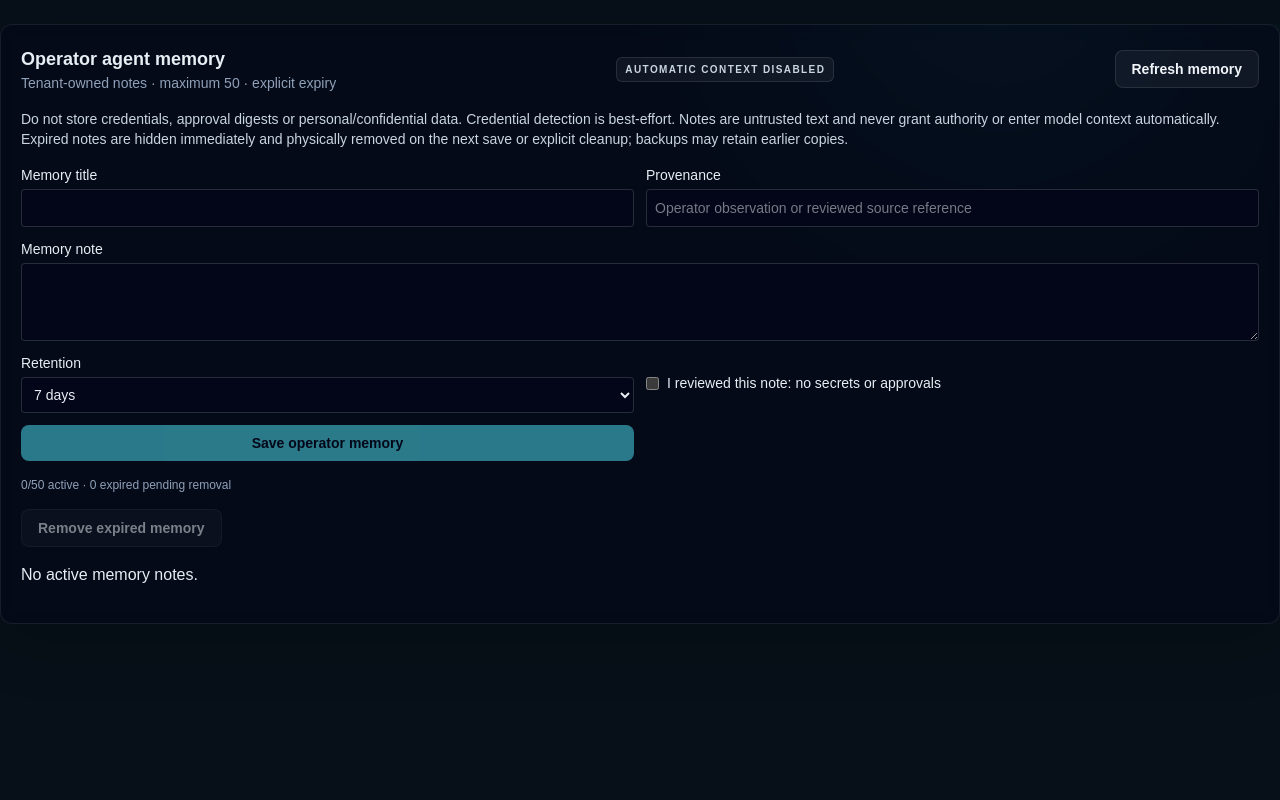
Scenario: AgentMemoryWorkspace › requires review before saving and never sends memory to inference
The image size is (1280, 800).
Expected: the text "No active memory notes." is shown, [21,566,198,583]
In the field labelled "Memory title": (328, 208) [21,189,634,227], type "Worker observation"
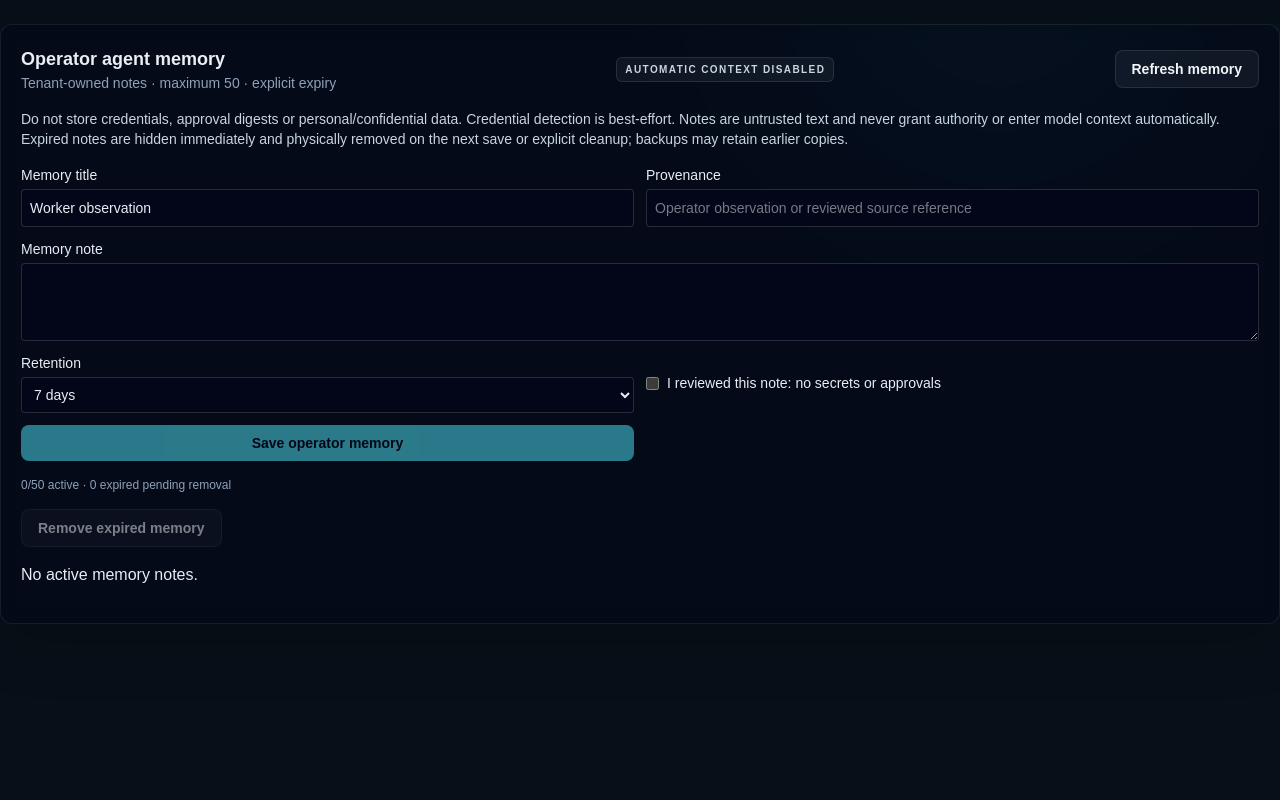
In the text box labelled "Memory note": (640, 302) [21,263,1259,341], type "The reviewed worker needs Docker to execute tests."
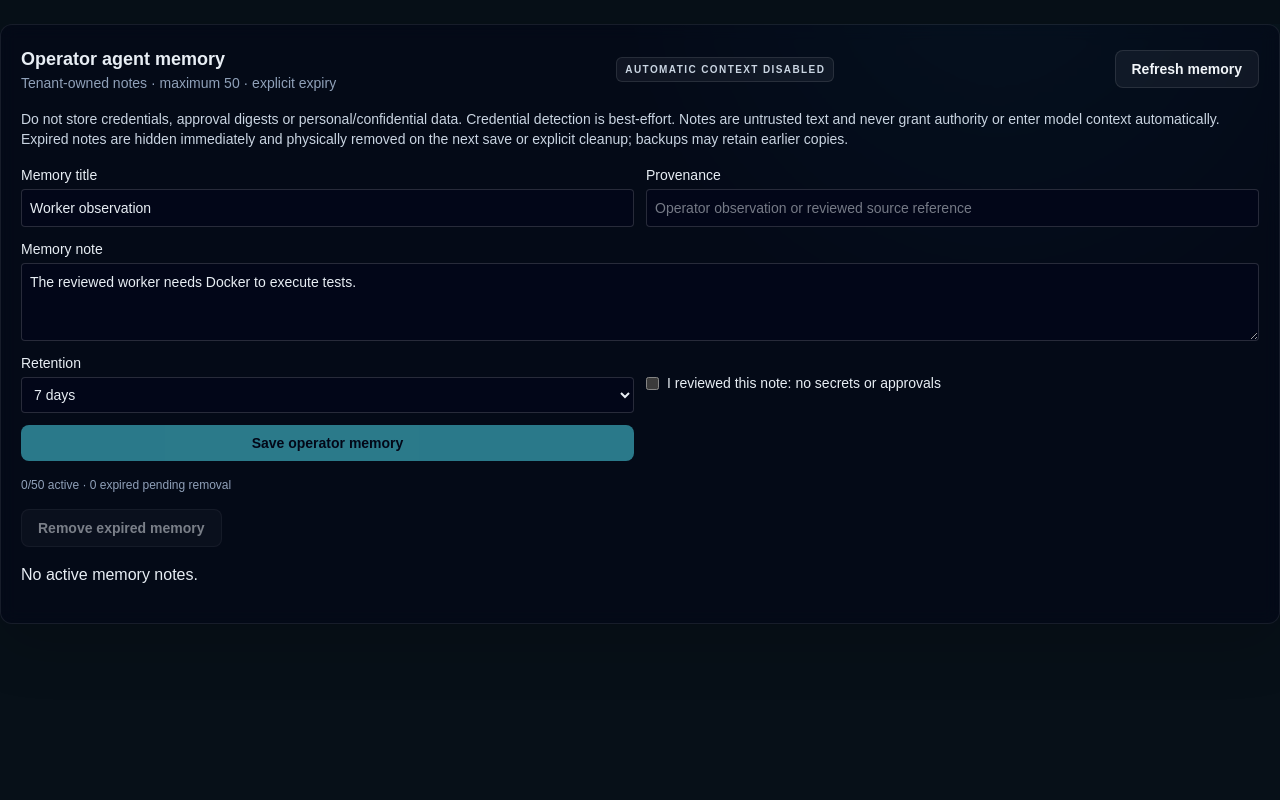
In the field labelled "Provenance": (952, 208) [646,189,1259,227], type "Local operator review"
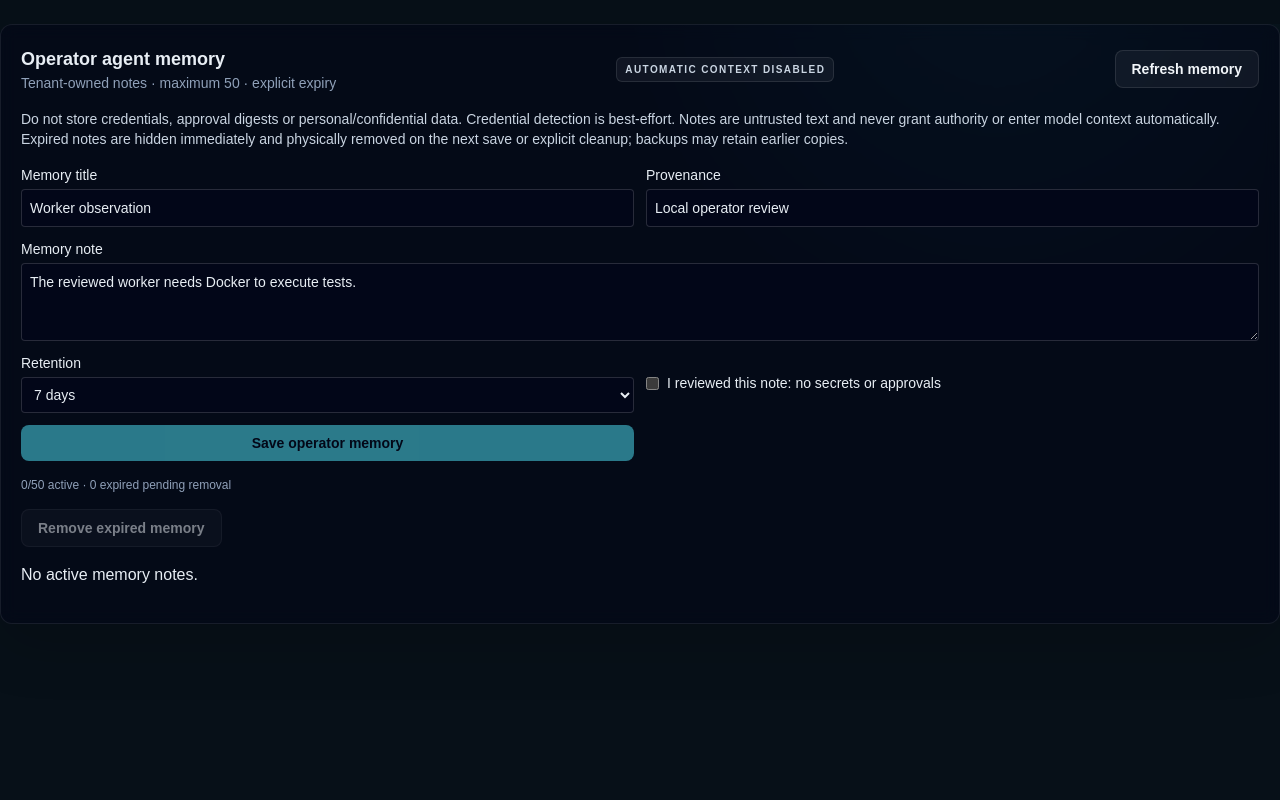
Expected: the button "Save operator memory" is disabled, [21,425,634,461]
Click the checkbox: (652, 383) [646,376,659,390]
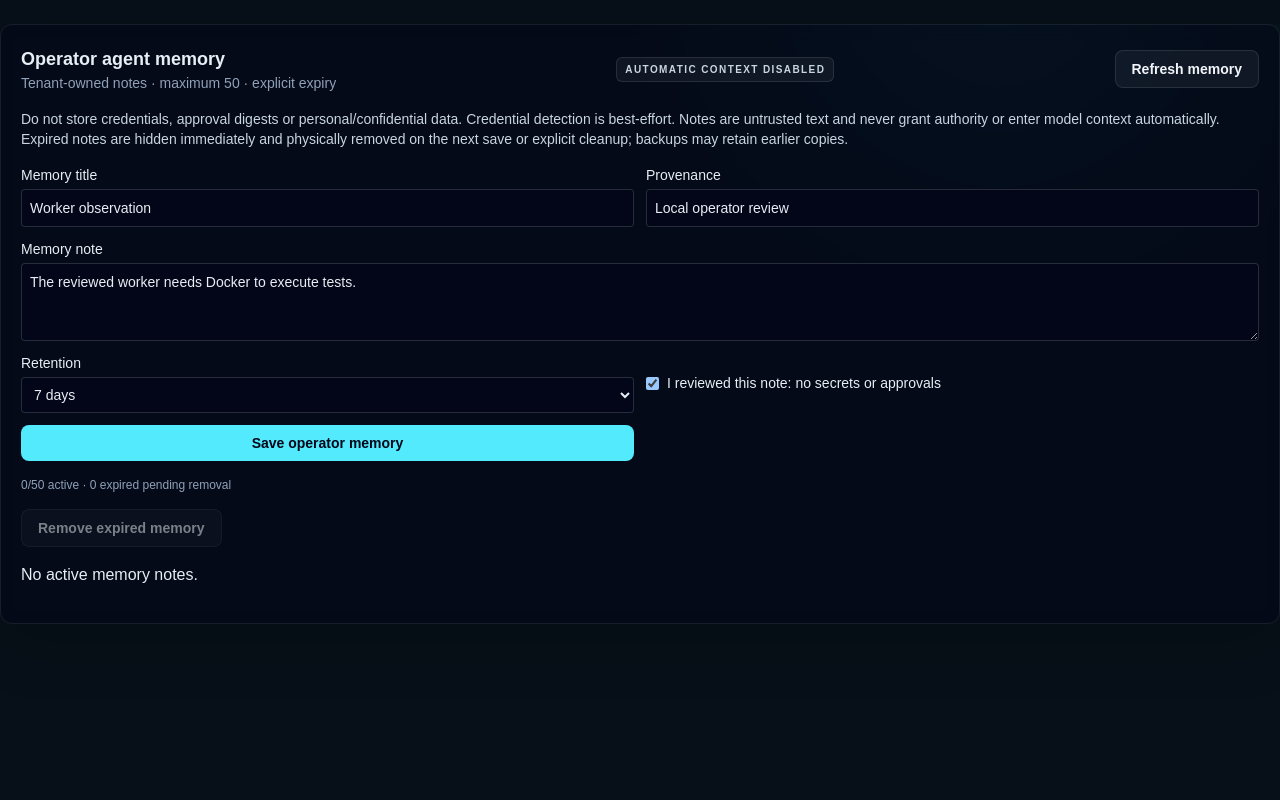
Click the button "Save operator memory": (328, 443) [21,425,634,461]
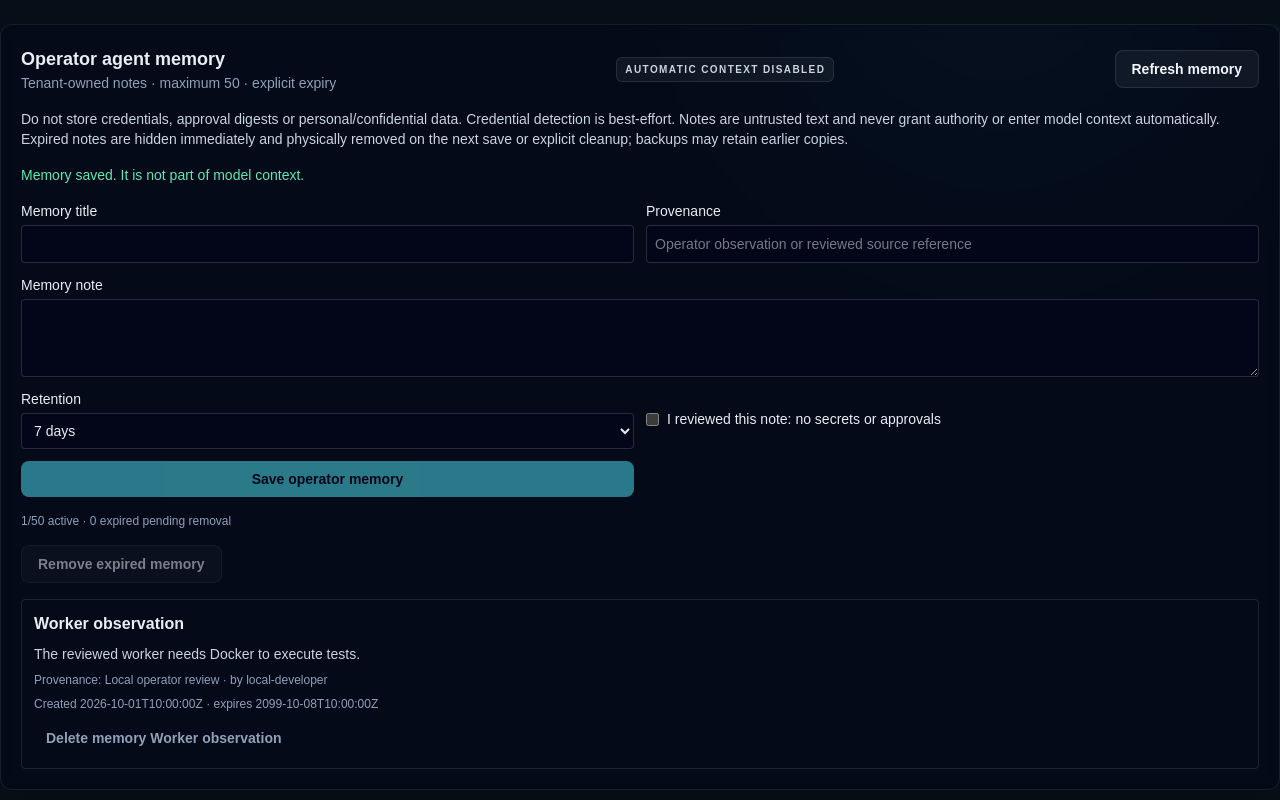
Now the checkbox is not checked, box [646,412,659,426]
Now the heading "Worker observation" is shown, box [34,615,184,632]
Now the text box labelled "Memory note" is empty, box [21,299,1259,377]
